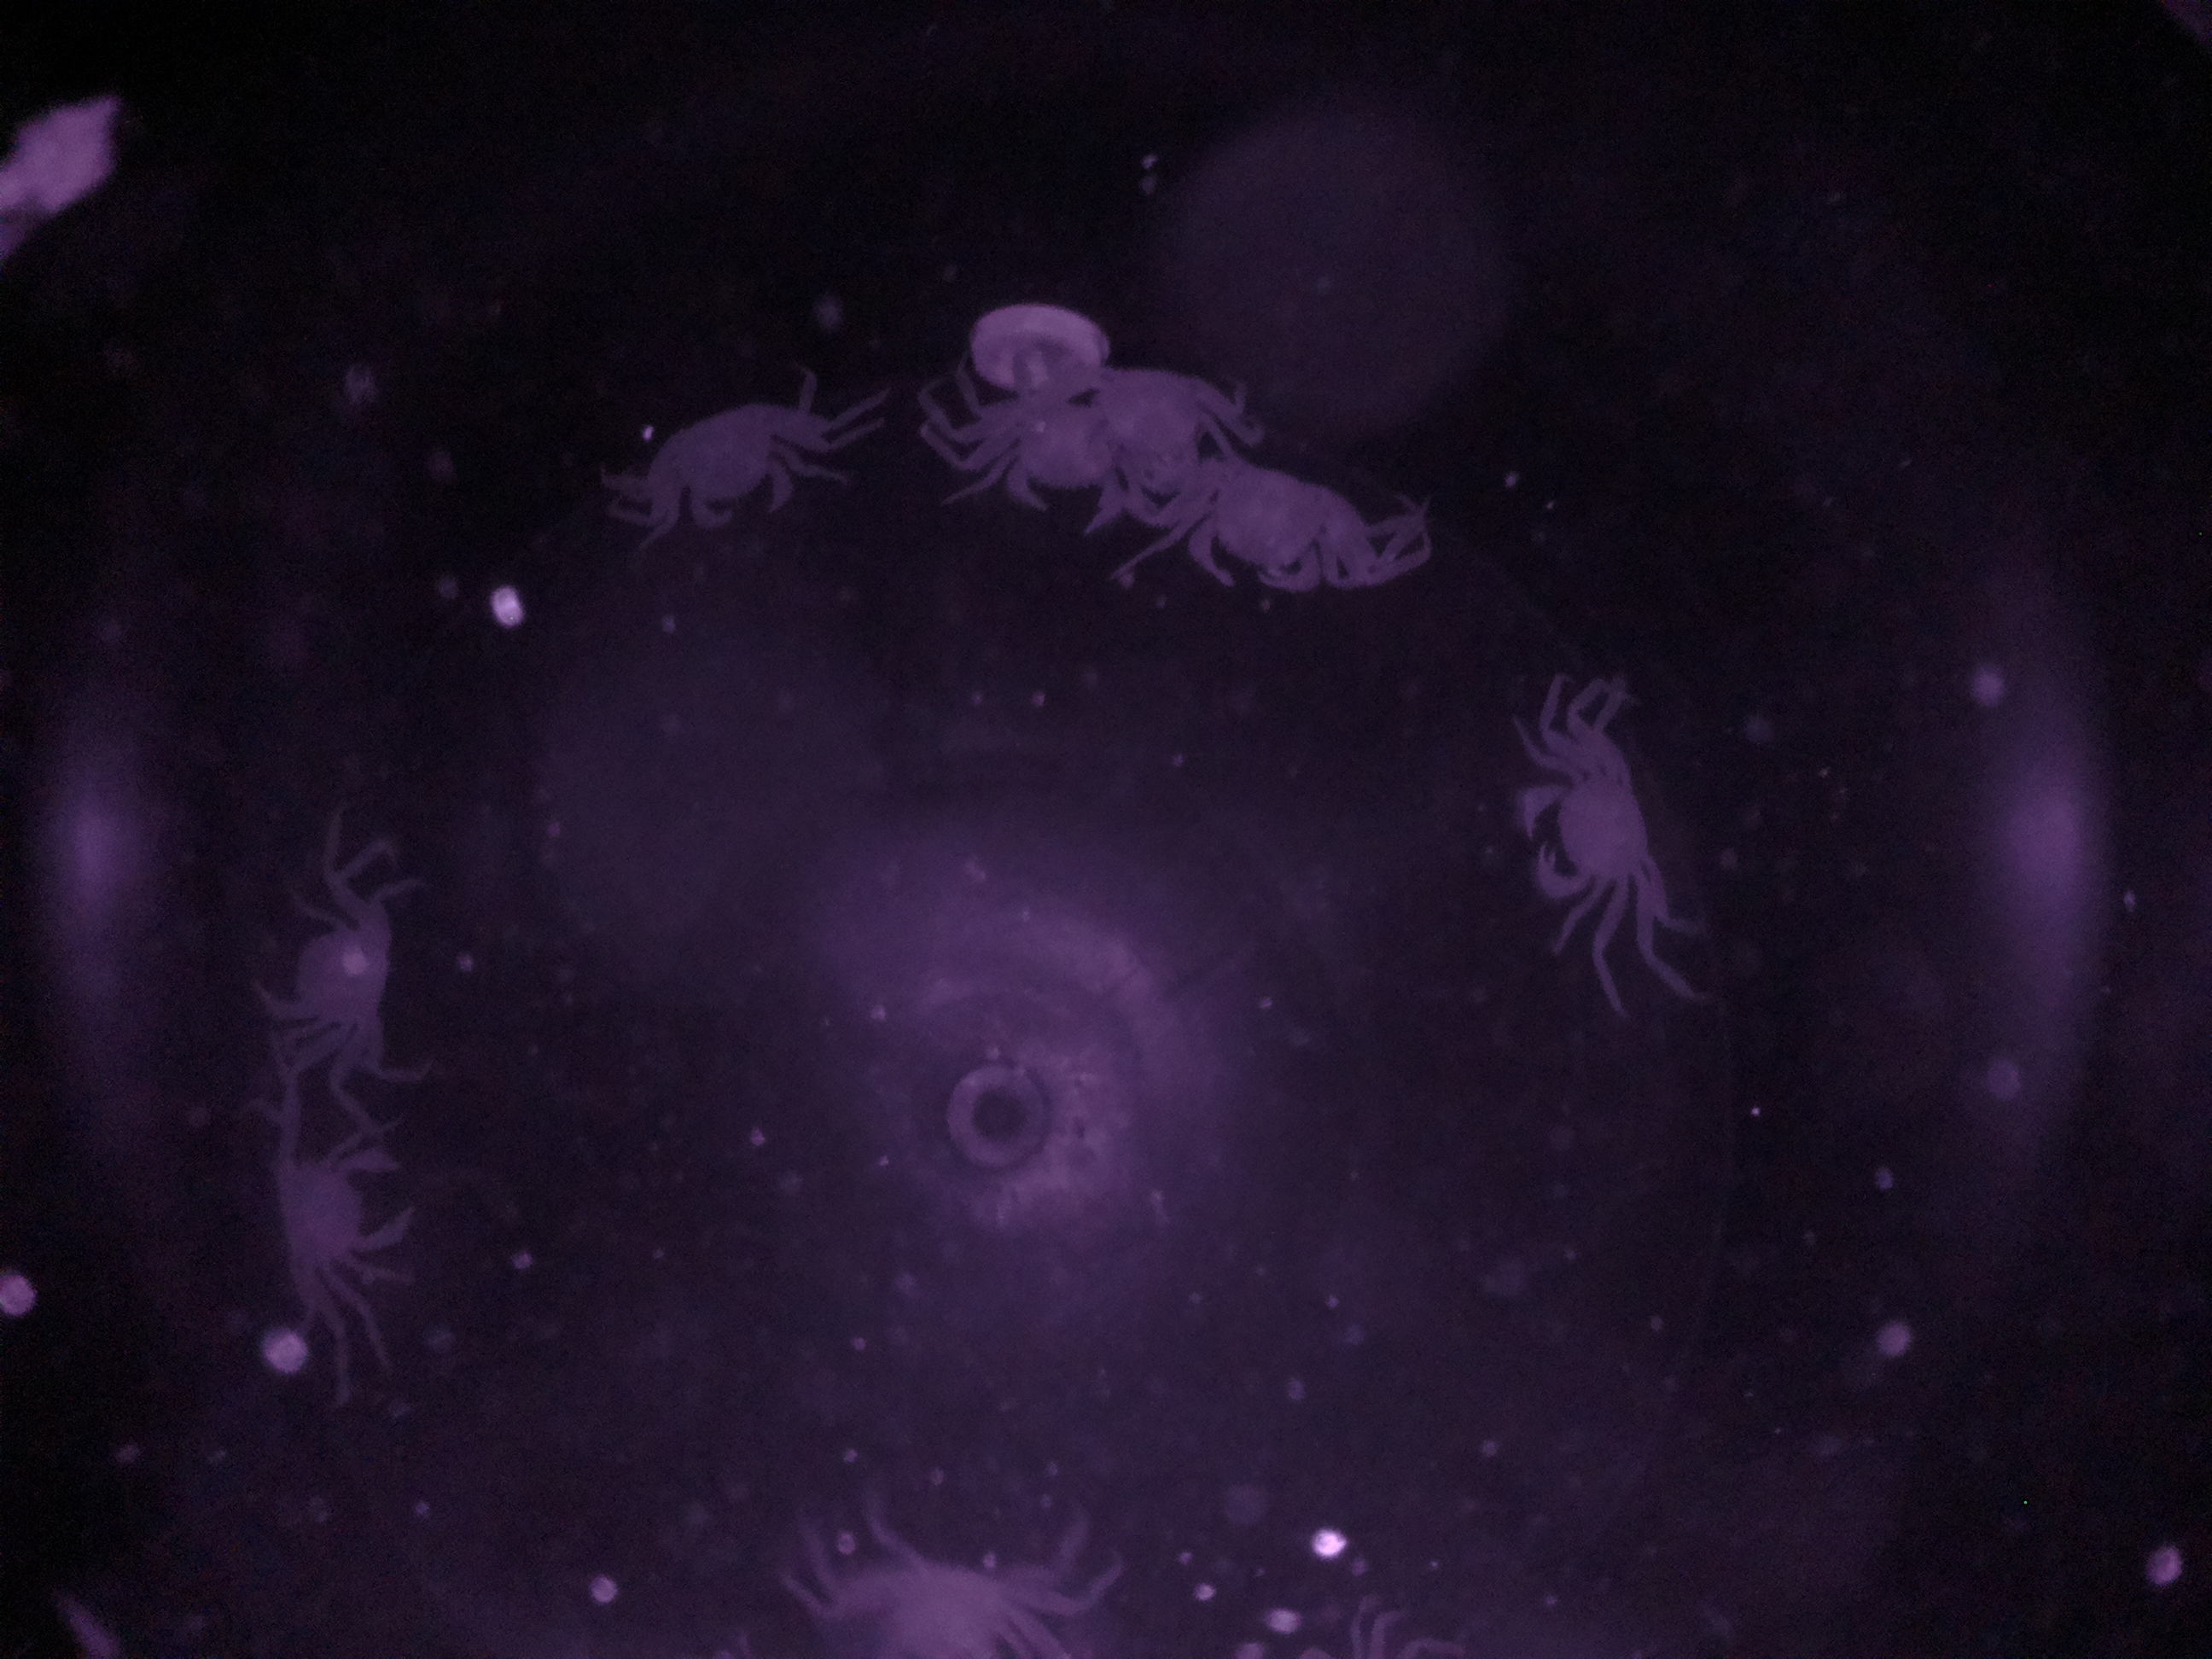Crab: (1503, 721, 1684, 960), (641, 376, 833, 549)
